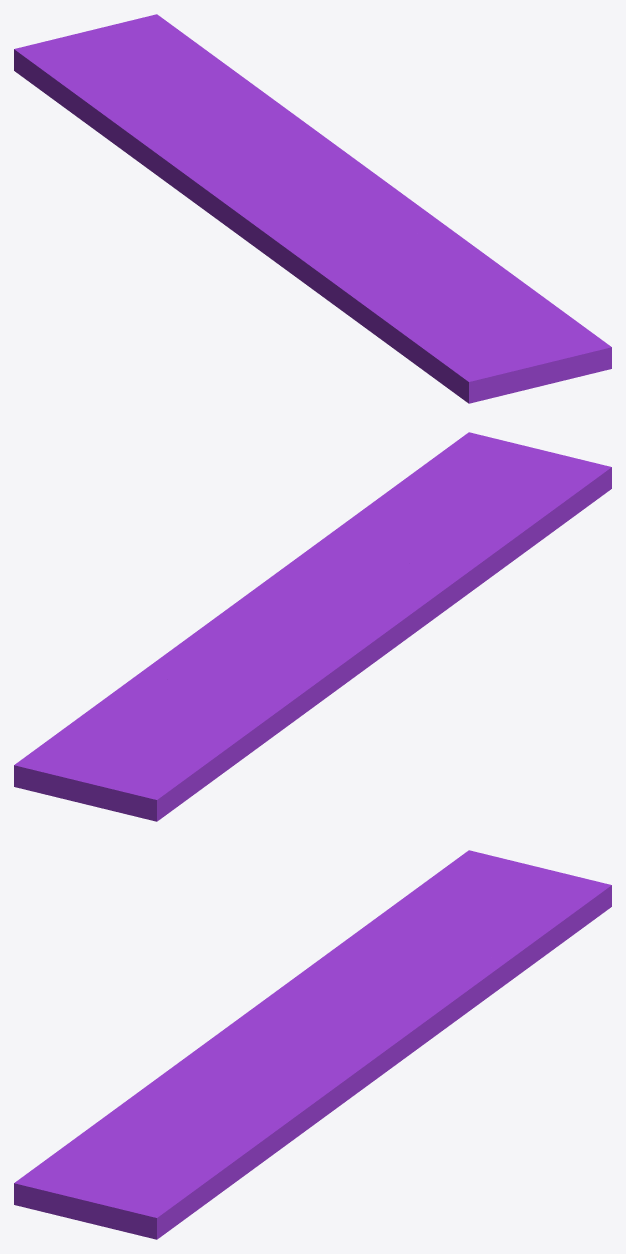
The model's file is StairsStep_73_chunks.fbx.
3 renders of one model, top to bottom at view 1: azimuth 30°, elevation 25°; view 2: azimuth 150°, elevation 25°; view 3: azimuth 330°, elevation 25°, orthographic.
Visible parts, largest first — view 1: StairsStep_73_11, StairsStep_73_7, StairsStep_73_1, StairsStep_73_8, StairsStep_73_5, StairsStep_73_2, StairsStep_73_0, StairsStep_73_10, StairsStep_73_12, StairsStep_73_4, StairsStep_73_9; view 2: StairsStep_73_7, StairsStep_73_11, StairsStep_73_8, StairsStep_73_1, StairsStep_73_5, StairsStep_73_2, StairsStep_73_0, StairsStep_73_10, StairsStep_73_12, StairsStep_73_4, StairsStep_73_9; view 3: StairsStep_73_11, StairsStep_73_7, StairsStep_73_0, StairsStep_73_5, StairsStep_73_1, StairsStep_73_2, StairsStep_73_8, StairsStep_73_10, StairsStep_73_12, StairsStep_73_4, StairsStep_73_9, StairsStep_73_6.
Part boxes in pixels (bbox=[...]): StairsStep_73_11: bbox=[414, 264, 611, 397]; StairsStep_73_7: bbox=[59, 14, 253, 126]; StairsStep_73_1: bbox=[323, 274, 509, 403]; StairsStep_73_8: bbox=[14, 38, 195, 172]; StairsStep_73_5: bbox=[146, 126, 296, 231]; StairsStep_73_2: bbox=[224, 195, 379, 296]; StairsStep_73_0: bbox=[234, 71, 393, 201]; StairsStep_73_10: bbox=[328, 187, 429, 247]; StairsStep_73_12: bbox=[409, 214, 500, 265]; StairsStep_73_4: bbox=[363, 251, 446, 313]; StairsStep_73_9: bbox=[360, 232, 429, 282]; StairsStep_73_7: bbox=[14, 681, 225, 804]; StairsStep_73_11: bbox=[358, 432, 570, 539]; StairsStep_73_8: bbox=[86, 694, 296, 821]; StairsStep_73_1: bbox=[443, 457, 611, 595]; StairsStep_73_5: bbox=[205, 623, 376, 718]; StairsStep_73_2: bbox=[313, 560, 469, 660]; StairsStep_73_0: bbox=[91, 592, 315, 708]; StairsStep_73_10: bbox=[251, 556, 365, 608]; StairsStep_73_12: bbox=[287, 513, 390, 565]; StairsStep_73_4: bbox=[389, 509, 482, 564]; StairsStep_73_9: bbox=[359, 536, 435, 581]; StairsStep_73_11: bbox=[38, 1110, 279, 1239]; StairsStep_73_7: bbox=[400, 861, 611, 974]; StairsStep_73_0: bbox=[310, 941, 534, 1069]; StairsStep_73_5: bbox=[259, 947, 420, 1026]; StairsStep_73_1: bbox=[14, 1079, 182, 1210]; StairsStep_73_2: bbox=[157, 1004, 312, 1090]; StairsStep_73_8: bbox=[337, 850, 513, 955]; StairsStep_73_10: bbox=[260, 1041, 389, 1129]; StairsStep_73_12: bbox=[235, 1085, 338, 1149]; StairsStep_73_4: bbox=[143, 1085, 236, 1140]; StairsStep_73_9: bbox=[190, 1068, 266, 1113]; StairsStep_73_6: bbox=[420, 969, 518, 997].
Bounding box in the file's own units: 200 × 28.98 × 1102.
